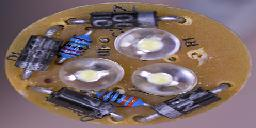LED: (51, 57, 123, 95), (131, 63, 198, 98), (115, 27, 183, 60)
